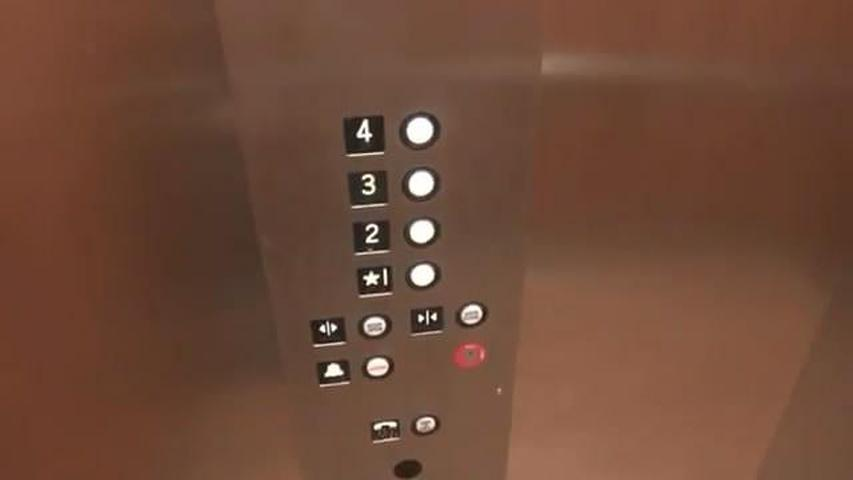2: (349, 216, 394, 256)
3: (344, 167, 388, 209)
4: (338, 112, 386, 157)
alarm: (310, 355, 355, 388)
blur: (451, 296, 488, 332), (356, 311, 393, 344), (360, 349, 396, 382), (410, 410, 440, 440)
call: (367, 416, 403, 447)
close: (403, 301, 446, 339)
keyhole: (446, 339, 486, 373)
open: (306, 312, 347, 352)
unknown: (396, 106, 445, 154), (397, 210, 442, 251), (401, 164, 440, 205), (353, 261, 392, 298), (403, 257, 441, 294)
